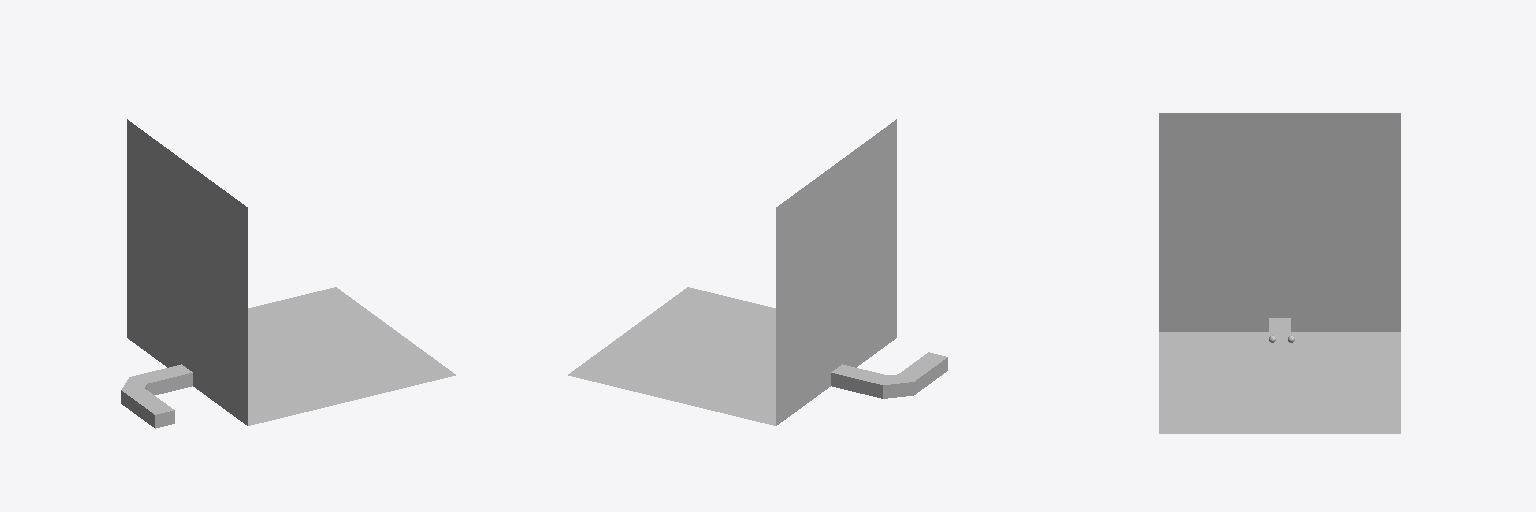
3 views of the same model, side by side, from view 1: azimuth 30°, elevation 25°; view 2: azimuth 150°, elevation 25°; view 3: azimuth 270°, elevation 25° (orthographic).
Visible parts, largest first — view 1: Plane.001, Plane, Ceiling_Plane.012, Walls_Plane.010; view 2: Plane.001, Plane, Walls_Plane.010, Ceiling_Plane.012; view 3: Plane.001, Plane.
Part boxes in pixels (bbox=[...]): Plane.001: bbox=[127, 119, 247, 425]; Plane: bbox=[248, 287, 455, 425]; Ceiling_Plane.012: bbox=[122, 364, 192, 414]; Walls_Plane.010: bbox=[121, 373, 192, 428]; Plane.001: bbox=[776, 119, 896, 425]; Plane: bbox=[568, 287, 775, 425]; Walls_Plane.010: bbox=[831, 357, 947, 398]; Ceiling_Plane.012: bbox=[831, 352, 946, 384]; Plane.001: bbox=[1159, 113, 1400, 331]; Plane: bbox=[1159, 332, 1400, 433].
Bounding box in the file's own units: 86 × 64 × 64.